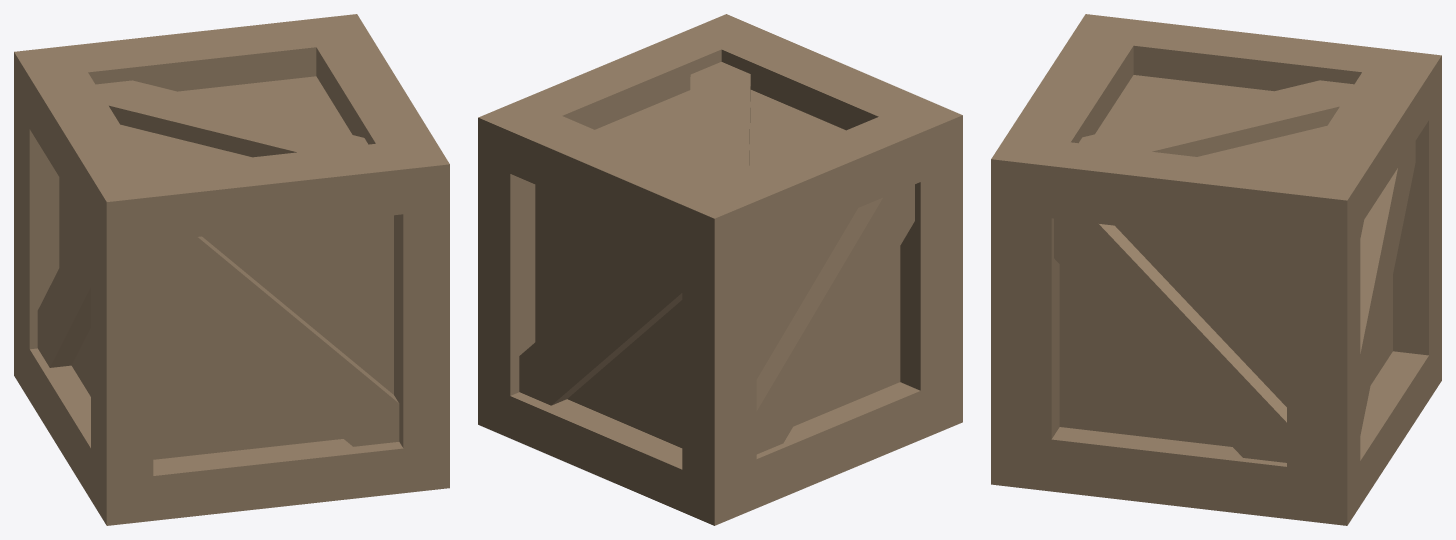
The picture shows the model from 3 angles, left to right: view 1: azimuth 30°, elevation 25°; view 2: azimuth 150°, elevation 25°; view 3: azimuth 270°, elevation 25°; orthographic projection. The views are drawn at different scales.
Visible parts, largest first — view 1: Cube.031; view 2: Cube.031; view 3: Cube.031.
Part boxes in pixels (left/top/right/bottom): Cube.031: left=14, top=14, right=449, bottom=525; Cube.031: left=478, top=14, right=962, bottom=525; Cube.031: left=991, top=14, right=1441, bottom=525.
Bounding box in the file's own units: 67.38 × 54.77 × 68.78.
